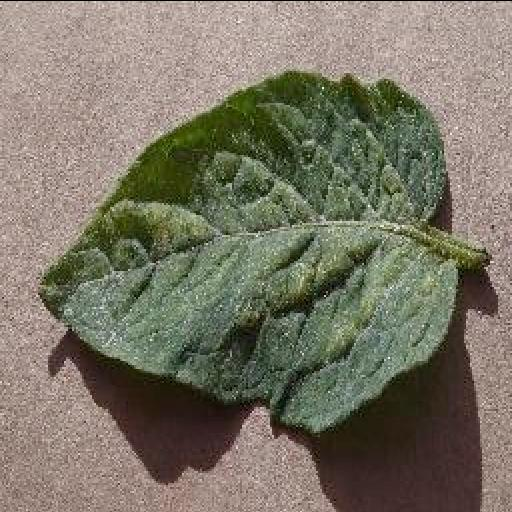disease_tomato: (38, 68, 456, 428)
